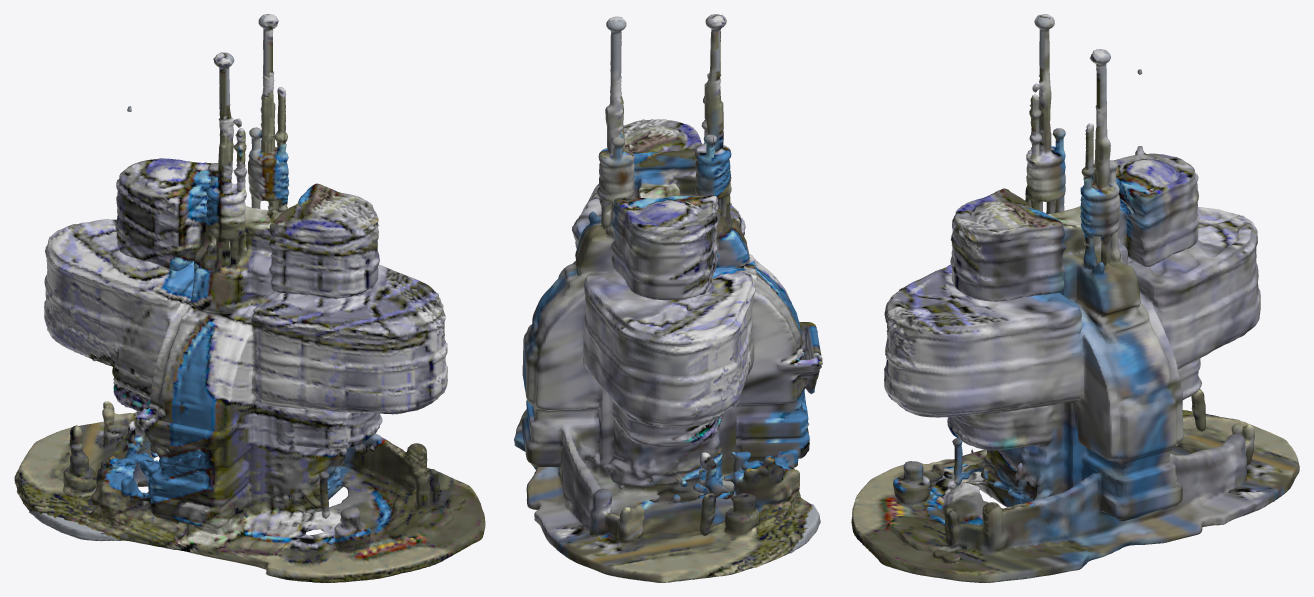
File: allied_battle_lab.glb
3 renders of one model, left to right at view 1: azimuth 30°, elevation 25°; view 2: azimuth 150°, elevation 25°; view 3: azimuth 270°, elevation 25°, orthographic.
Parts seen in each view (by area): view 1: allied_battle_lab; view 2: allied_battle_lab; view 3: allied_battle_lab.
Part boxes in pixels (left/top/right/bottom): allied_battle_lab: left=14, top=14, right=485, bottom=582; allied_battle_lab: left=514, top=14, right=822, bottom=582; allied_battle_lab: left=851, top=14, right=1299, bottom=582.
Bounding box in the file's own units: 1.25 × 1.6 × 1.4.
